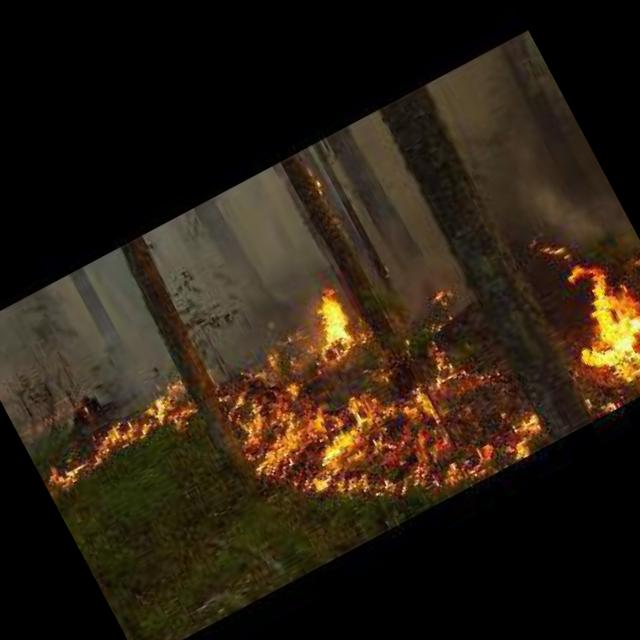fire: (194, 150, 640, 567), (15, 348, 204, 502)
